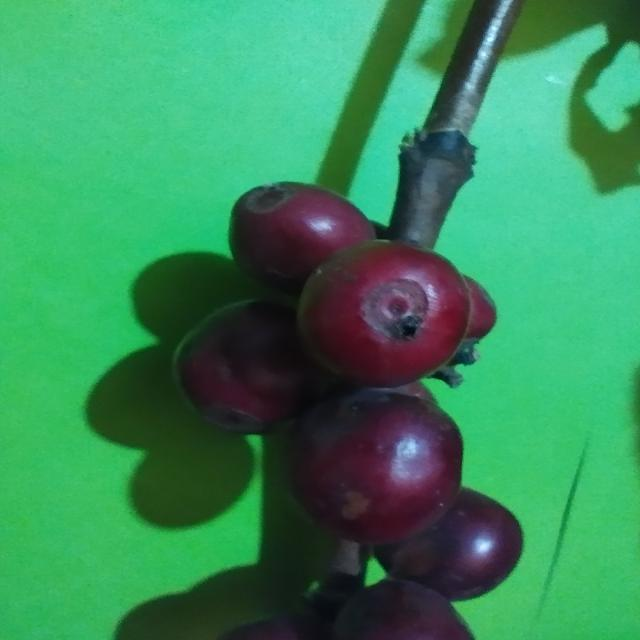Infectado: (296, 240, 470, 388)
Sano: (283, 383, 463, 546)
